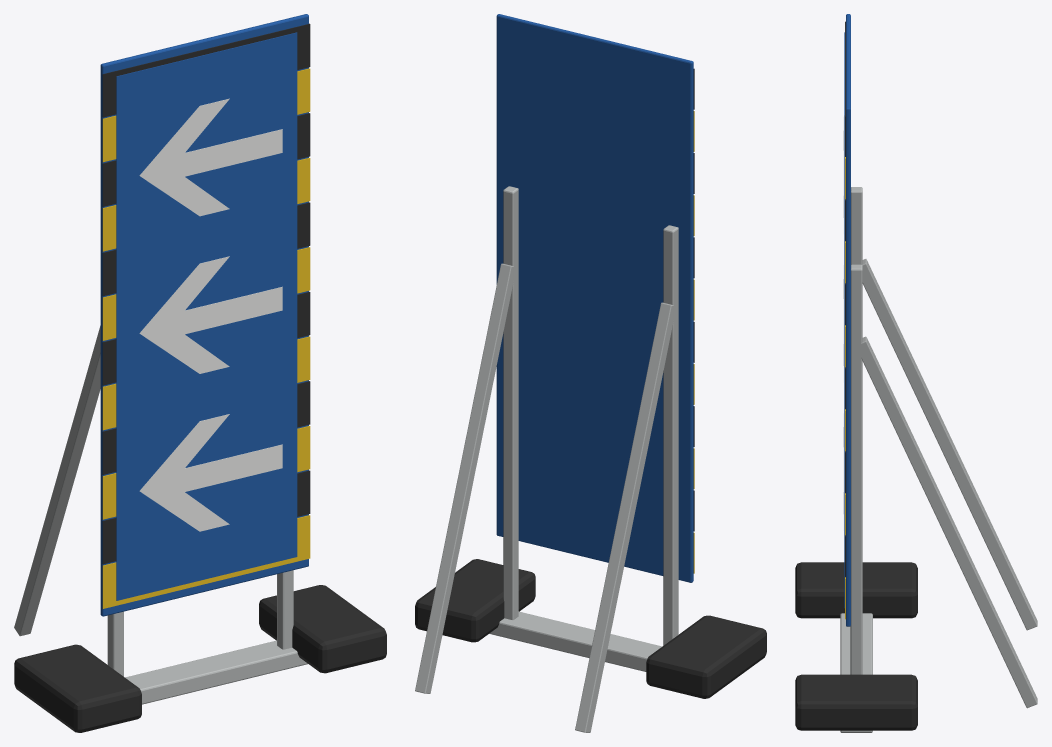
Rendered from city-construction-arrow-board.glb.
The picture shows the model from 3 angles, left to right: view 1: azimuth 30°, elevation 25°; view 2: azimuth 150°, elevation 25°; view 3: azimuth 270°, elevation 25°; orthographic projection. The views are drawn at different scales.
Visible parts, largest first — view 1: Assembly | Blue sign face, Assembly | Black rubber base weight, Assembly | White reflective arrow, Assembly | Galvanized stand frame, Assembly | Yellow-black border band; view 2: Assembly | Blue sign face, Assembly | Galvanized stand frame, Assembly | Black rubber base weight; view 3: Assembly | Galvanized stand frame, Assembly | Black rubber base weight, Assembly | Blue sign face.
Boxes of the visible parts, x1,y1,x2,y2 form: Assembly | Blue sign face: (100,14,308,616); Assembly | Black rubber base weight: (14,23,386,732); Assembly | White reflective arrow: (139,98,282,531); Assembly | Galvanized stand frame: (14,325,307,704); Assembly | Yellow-black border band: (102,68,310,608); Assembly | Blue sign face: (496,14,693,582); Assembly | Galvanized stand frame: (415,186,678,732); Assembly | Black rubber base weight: (415,68,766,698); Assembly | Galvanized stand frame: (840,187,1037,732); Assembly | Black rubber base weight: (795,21,917,730); Assembly | Blue sign face: (844,14,850,626).
Bounding box in the file's own units: 0.83 × 1.65 × 0.593.
